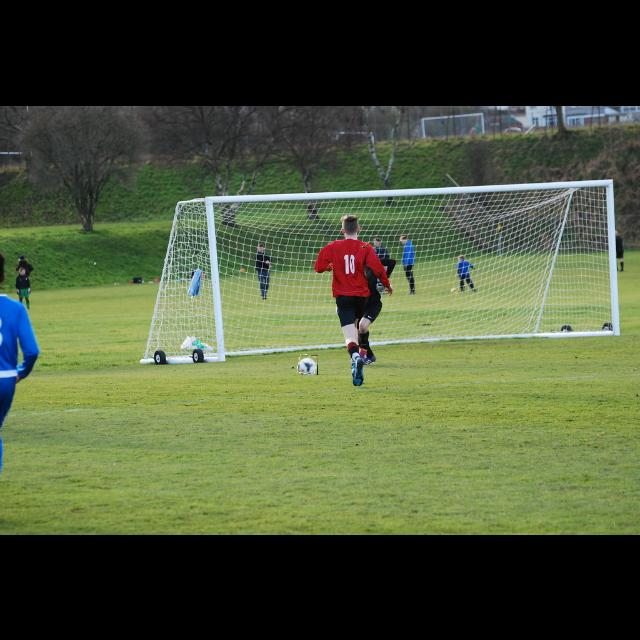Football: (298, 355, 318, 375)
